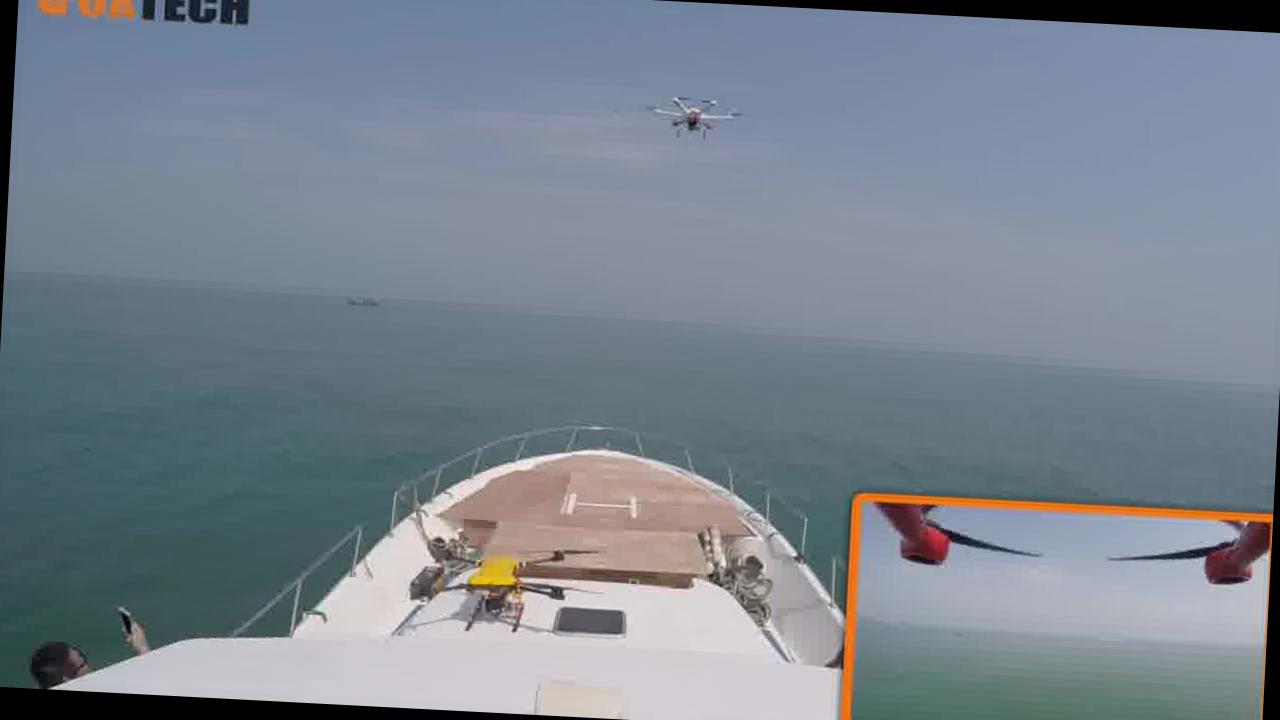drone: (648, 89, 742, 145)
